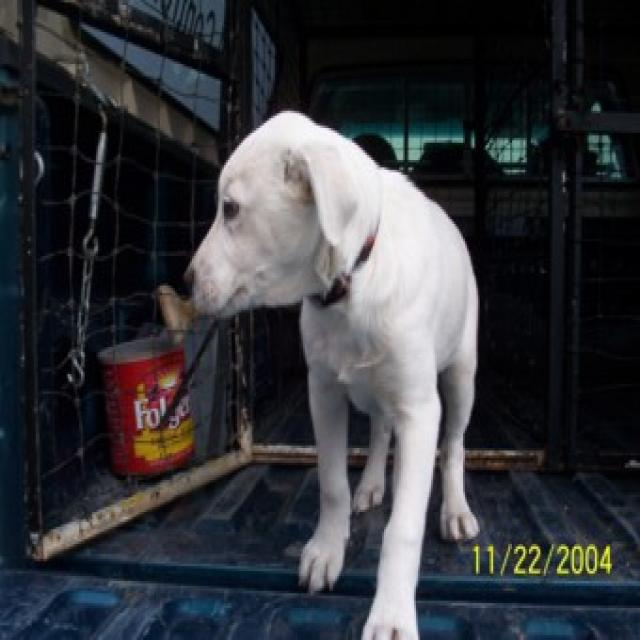dogs: (183, 109, 480, 640)
